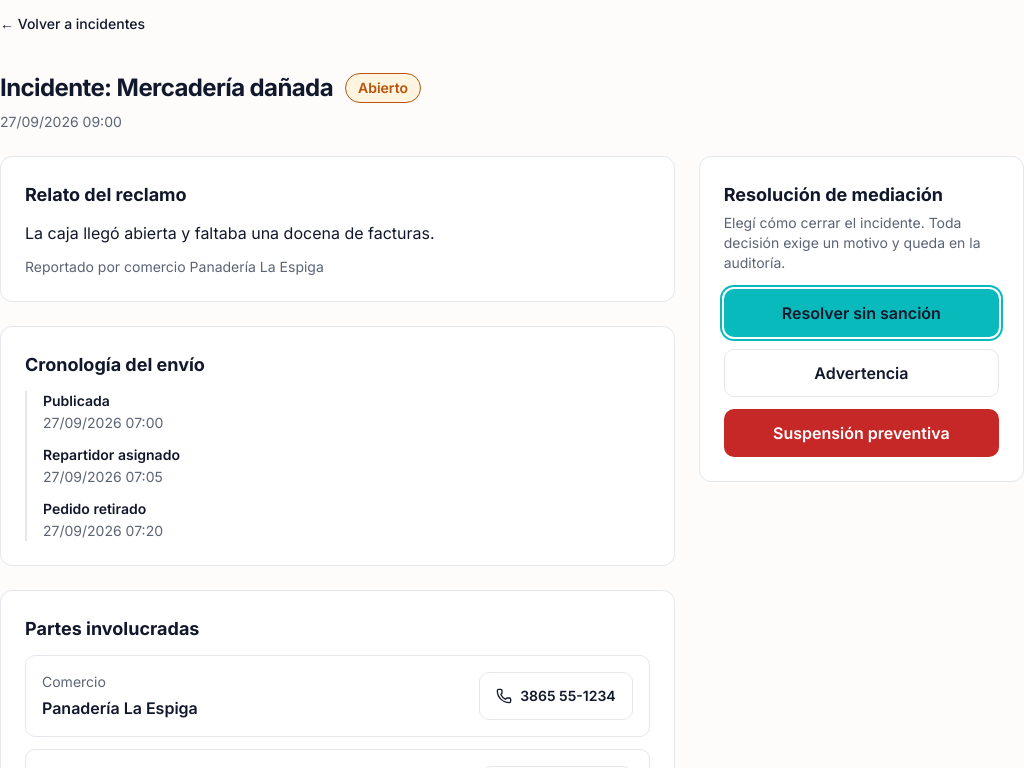
Test: PR113-H07/H08: Dialogs de resolución de A05 › no_action: Escape cierra el Dialog y el foco vuelve al mismo botón
The image size is (1024, 768).
Click the button "Resolver sin sanción": (861, 313) 724,289 -> 999,337
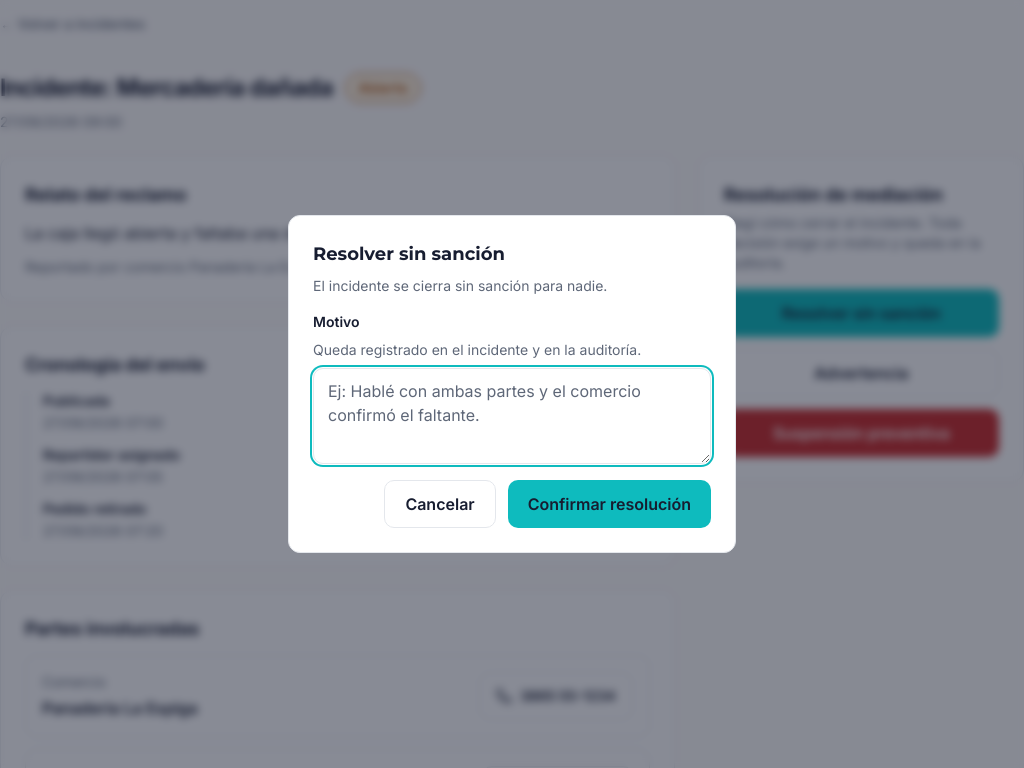
Check: the text box labelled "Motivo" is shown, box 313,368 -> 711,464
Press Escape in the dialog, box 288,215 -> 736,553
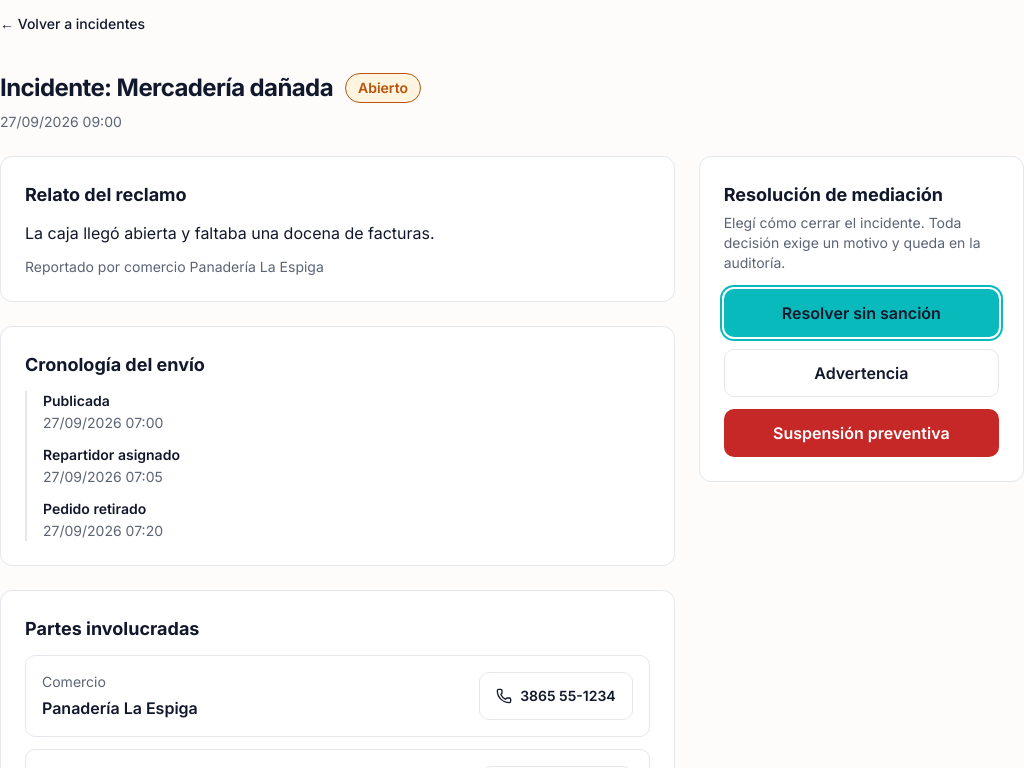
Check: the dialog is gone
